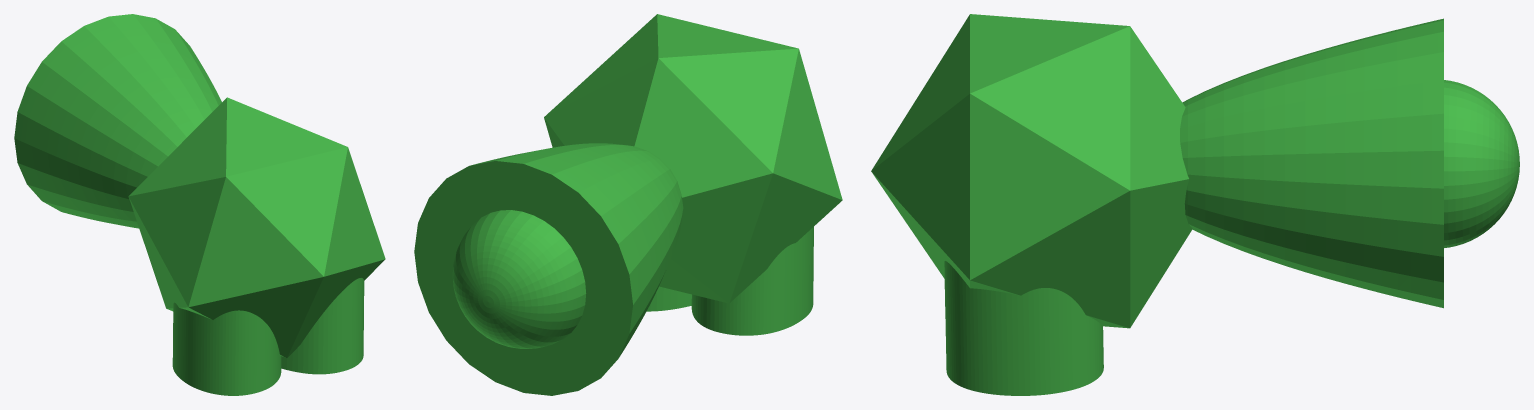
Rendered from tinkerOneColour.obj.
3 renders of one model, left to right at view 1: azimuth 30°, elevation 25°; view 2: azimuth 150°, elevation 25°; view 3: azimuth 270°, elevation 25°, orthographic. The views are drawn at different scales.
Visible parts, largest first — view 1: obj_0; view 2: obj_0; view 3: obj_0.
Part boxes in pixels (x1,y1,x2,y2): obj_0: (14, 14, 385, 395); obj_0: (414, 14, 842, 395); obj_0: (871, 14, 1519, 395).
Size of the model in its own units: 68.09 by 77.59 by 145.
